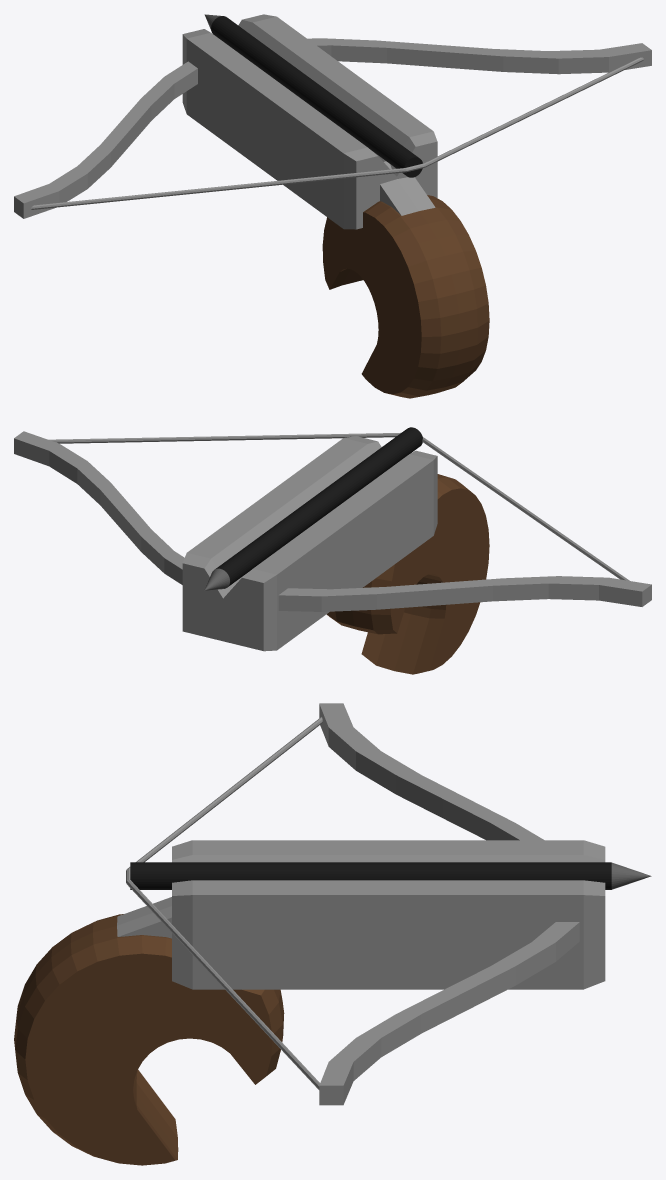
The model's file is crossbow.glb.
3 renders of one model, top to bottom at view 1: azimuth 30°, elevation 25°; view 2: azimuth 150°, elevation 25°; view 3: azimuth 270°, elevation 25°, orthographic. The views are drawn at different scales.
Visible parts, largest first — view 1: Cylinder; view 2: Cylinder; view 3: Cylinder.
Part boxes in pixels (left/top/right/bottom): Cylinder: left=14, top=14, right=651, bottom=398; Cylinder: left=14, top=427, right=651, bottom=674; Cylinder: left=14, top=703, right=651, bottom=1165.
Size of the model in its own units: 0.9244 by 0.3287 by 0.6518.
